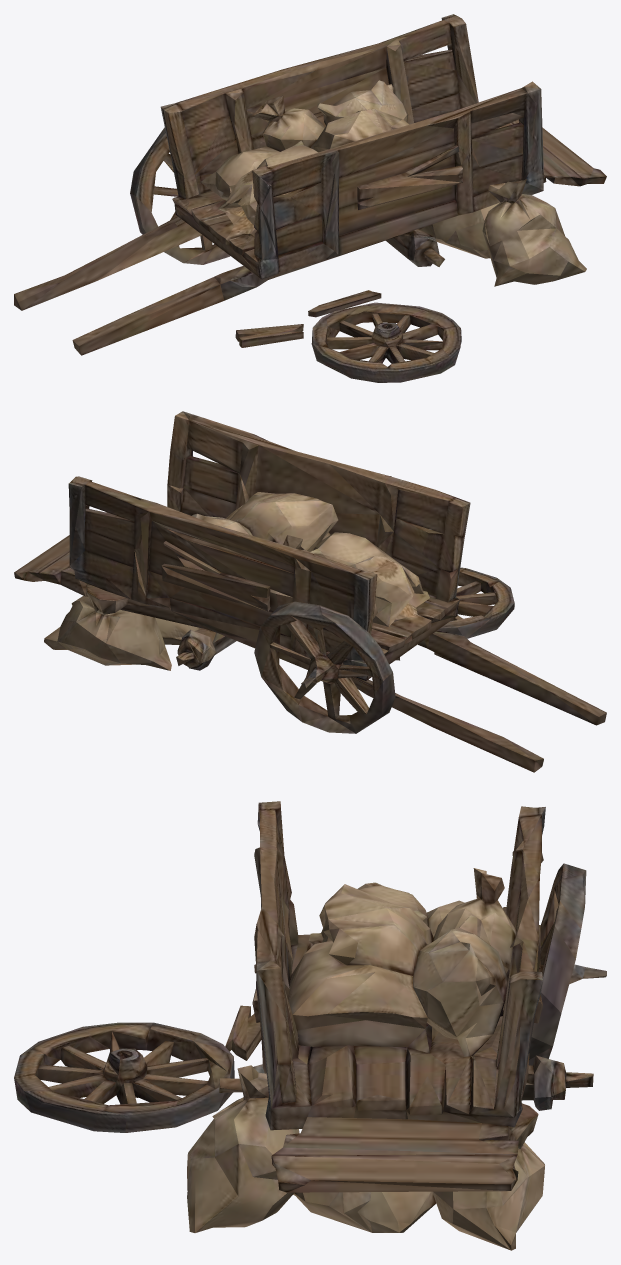
File: broken_cart_3d.glb
The picture shows the model from 3 angles, top to bottom: view 1: azimuth 30°, elevation 25°; view 2: azimuth 150°, elevation 25°; view 3: azimuth 270°, elevation 25°; orthographic projection. The views are drawn at different scales.
Parts seen in each view (by area): view 1: Mesh_0; view 2: Mesh_0; view 3: Mesh_0.
Boxes of the visible parts, x1=… form: Mesh_0: x1=14, y1=14, x2=606, y2=382; Mesh_0: x1=14, y1=411, x2=606, y2=772; Mesh_0: x1=14, y1=801, x2=606, y2=1250.
Size of the model in its own units: 2.25 by 0.7654 by 1.56.
Materials: 1 (1 with a texture image).
